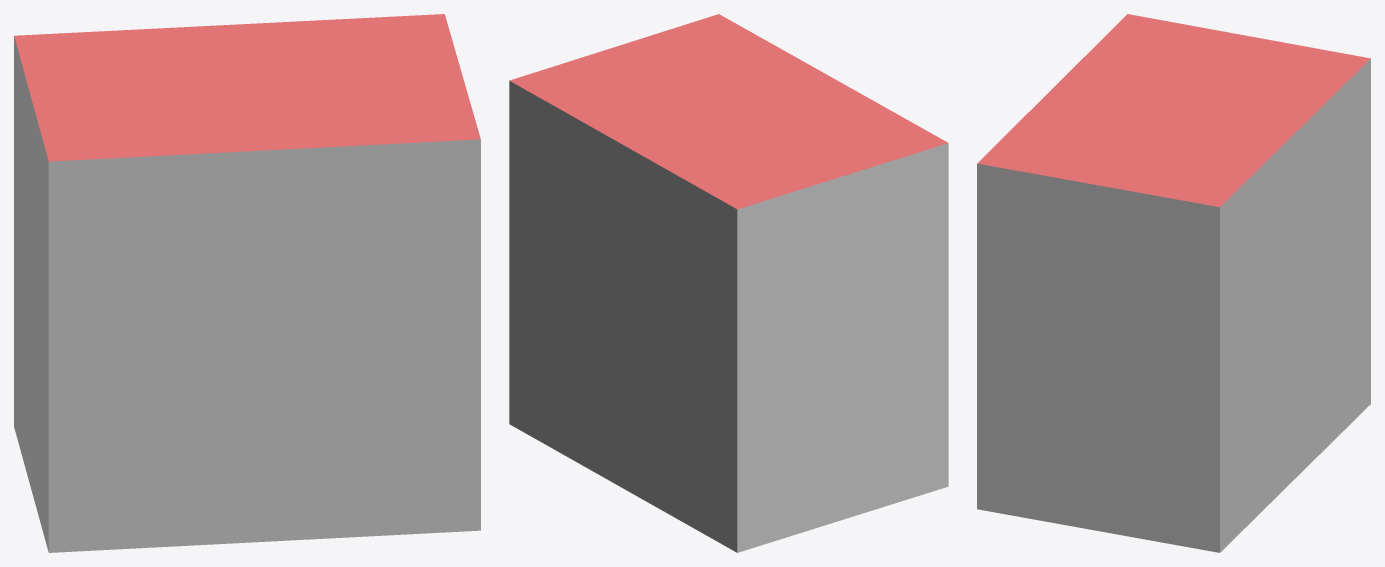
File: DEBY_LOD2_4908129.gltf
3 renders of one model, left to right at view 1: azimuth 30°, elevation 25°; view 2: azimuth 150°, elevation 25°; view 3: azimuth 270°, elevation 25°, orthographic. The views are drawn at different scales.
Parts seen in each view (by area): view 1: Z_UP; view 2: Z_UP; view 3: Z_UP.
Part boxes in pixels (x1,y1,x2,y2): Z_UP: (14, 14, 480, 552); Z_UP: (509, 14, 948, 552); Z_UP: (977, 14, 1370, 552).
Size of the model in its own units: 10.79 by 9 by 9.29.
